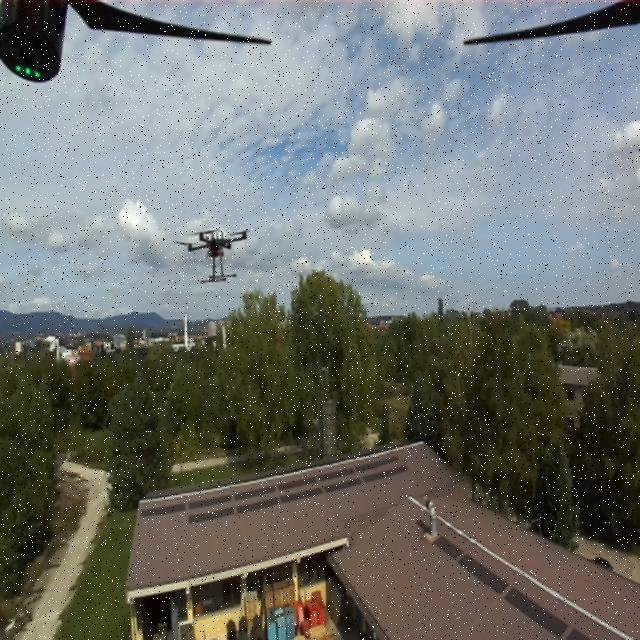UAV: (177, 220, 256, 290)
